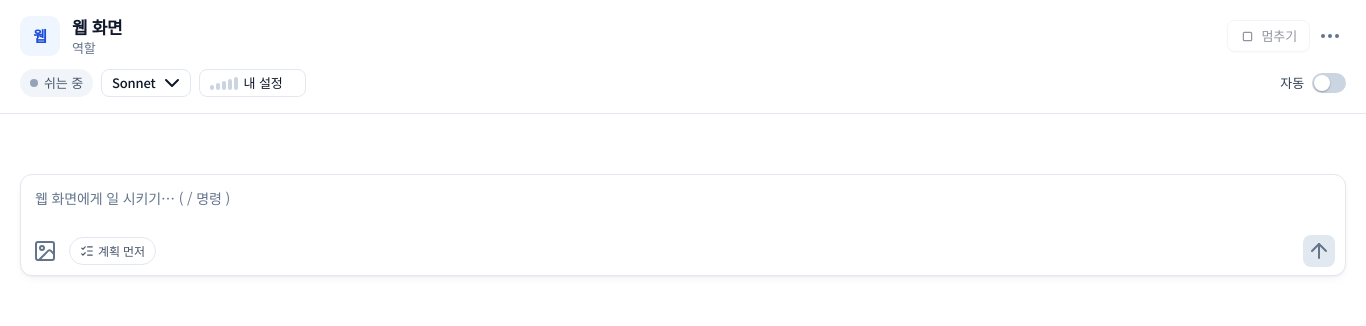
it: ModelPicker › 고르면 setModel — default 는 null 로, 지금 모델엔 표시 · 이름·설명은 한국어(Claude 의 영어 설명은 안 보임)
The width and height of the screenshot is (1366, 326).
Click the button with aria-label "모델" at (146, 83), box [101,69,191,97]
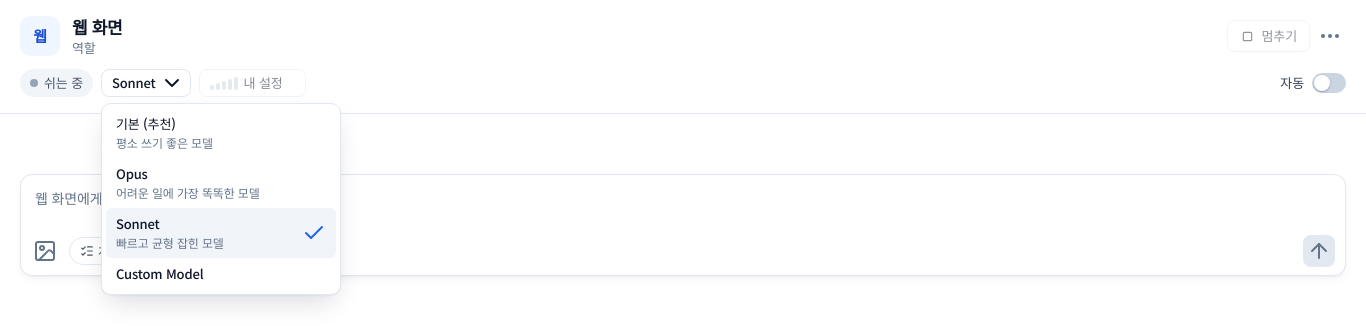
Click the menu item "기본 (추천) 평소 쓰기 좋은 모델" at (221, 133), box [106,108,336,158]
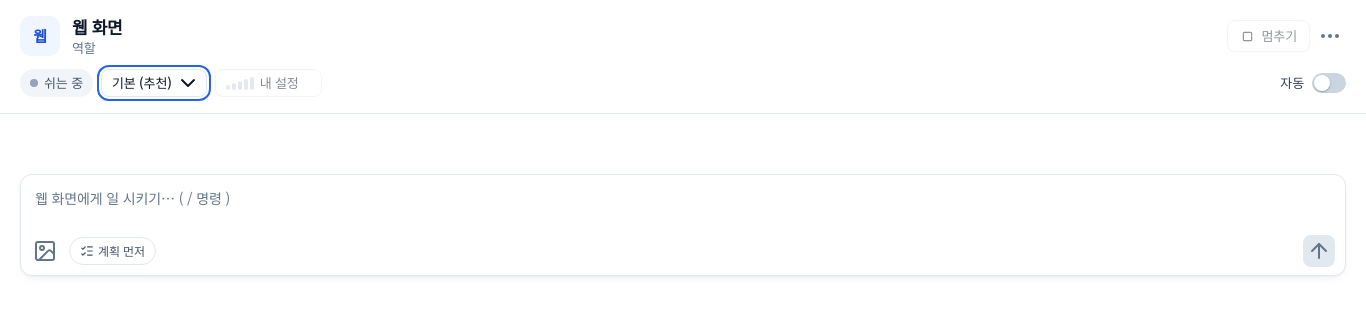
Result: the menu item "모델" is gone
Result: the button with aria-label "모델" reads "기본 (추천)"
Click the button with aria-label "모델" at (154, 83), box [101,69,207,97]
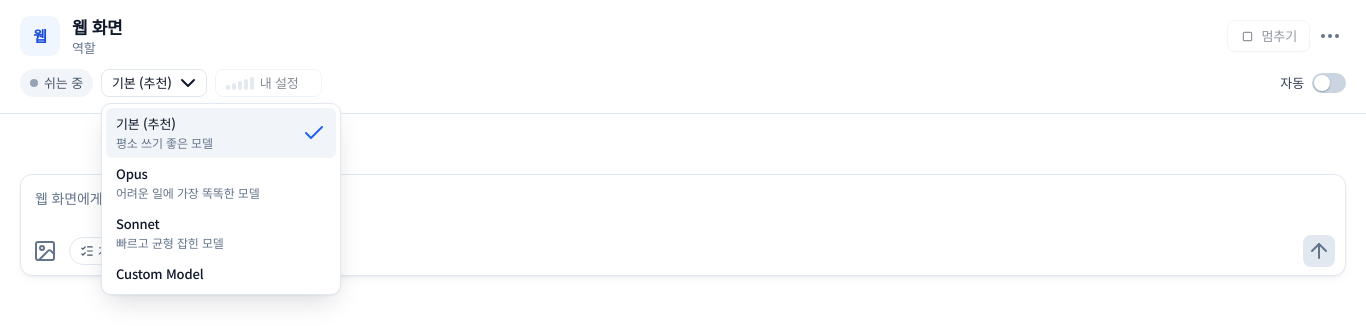
Click the menu item "Opus 어려운 일에 가장 똑똑한 모델" at (221, 183), box [106,158,336,208]
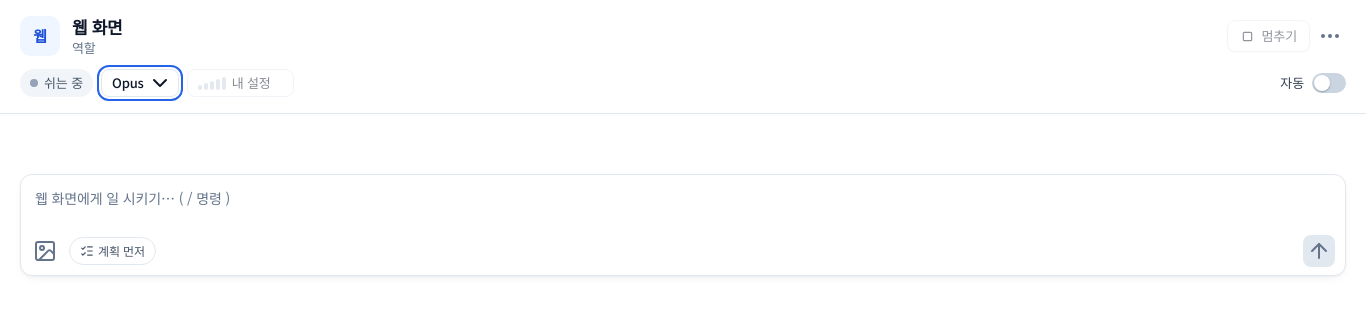
Result: the button with aria-label "모델" reads "Opus" at [101,69,179,97]
